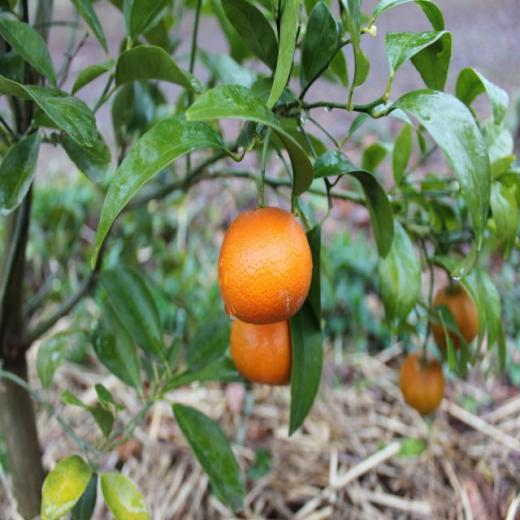Grape: (219, 202, 316, 333), (229, 313, 291, 385), (433, 280, 481, 351), (403, 352, 443, 412)
